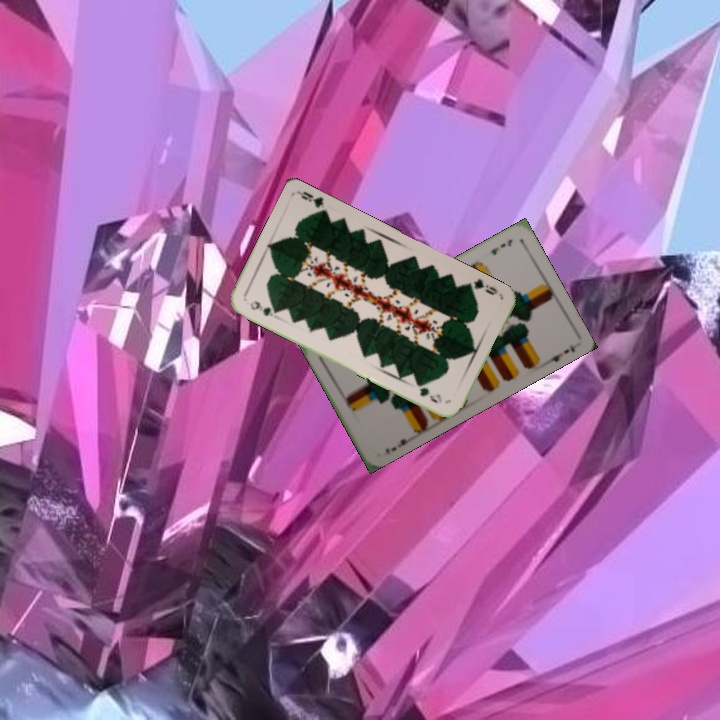E7: (381, 433, 414, 457), (487, 235, 515, 258)
G9: (462, 275, 500, 298), (246, 297, 281, 321)
